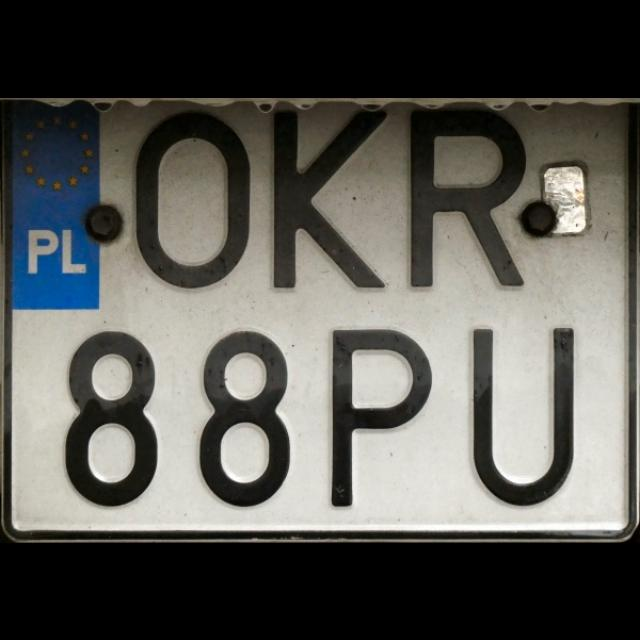pl_license_plate: (12, 104, 626, 528)
